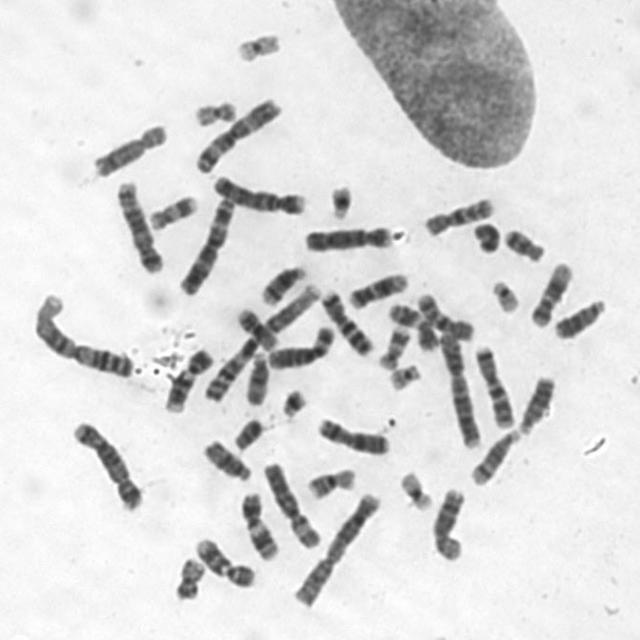A1: (200, 279, 324, 405), (29, 287, 138, 381)
A2: (290, 486, 385, 608), (436, 326, 484, 451)
A3: (190, 91, 286, 175), (173, 192, 238, 296)
B4: (209, 169, 310, 216), (300, 219, 396, 254)
B5: (67, 415, 146, 513), (111, 174, 165, 275)
C10: (419, 192, 497, 238), (411, 287, 476, 342)
C11: (236, 486, 282, 562), (383, 297, 440, 353)
C12: (526, 256, 576, 329), (344, 266, 412, 310)
C6: (259, 456, 324, 551), (262, 319, 338, 372)
C7: (469, 339, 518, 430), (317, 284, 376, 357)
C8: (88, 117, 170, 179), (428, 483, 469, 563)
C9: (160, 342, 215, 415), (190, 532, 258, 589)
D13: (514, 370, 558, 436), (550, 293, 609, 341)
D14: (466, 424, 524, 486), (257, 260, 310, 306)
D15: (199, 434, 254, 482), (241, 345, 271, 407)
E16: (232, 302, 281, 352), (302, 462, 358, 500)
E17: (145, 189, 201, 232), (374, 322, 412, 372)
E18: (500, 222, 548, 264), (230, 413, 266, 452)
F19: (232, 26, 284, 64), (396, 466, 436, 512)
F20: (170, 552, 207, 602), (190, 94, 240, 128)
G21: (325, 178, 356, 221), (277, 382, 310, 420)
G22: (487, 274, 522, 316), (384, 358, 424, 392)
X: (313, 412, 393, 456)
Y: (470, 216, 502, 255)
